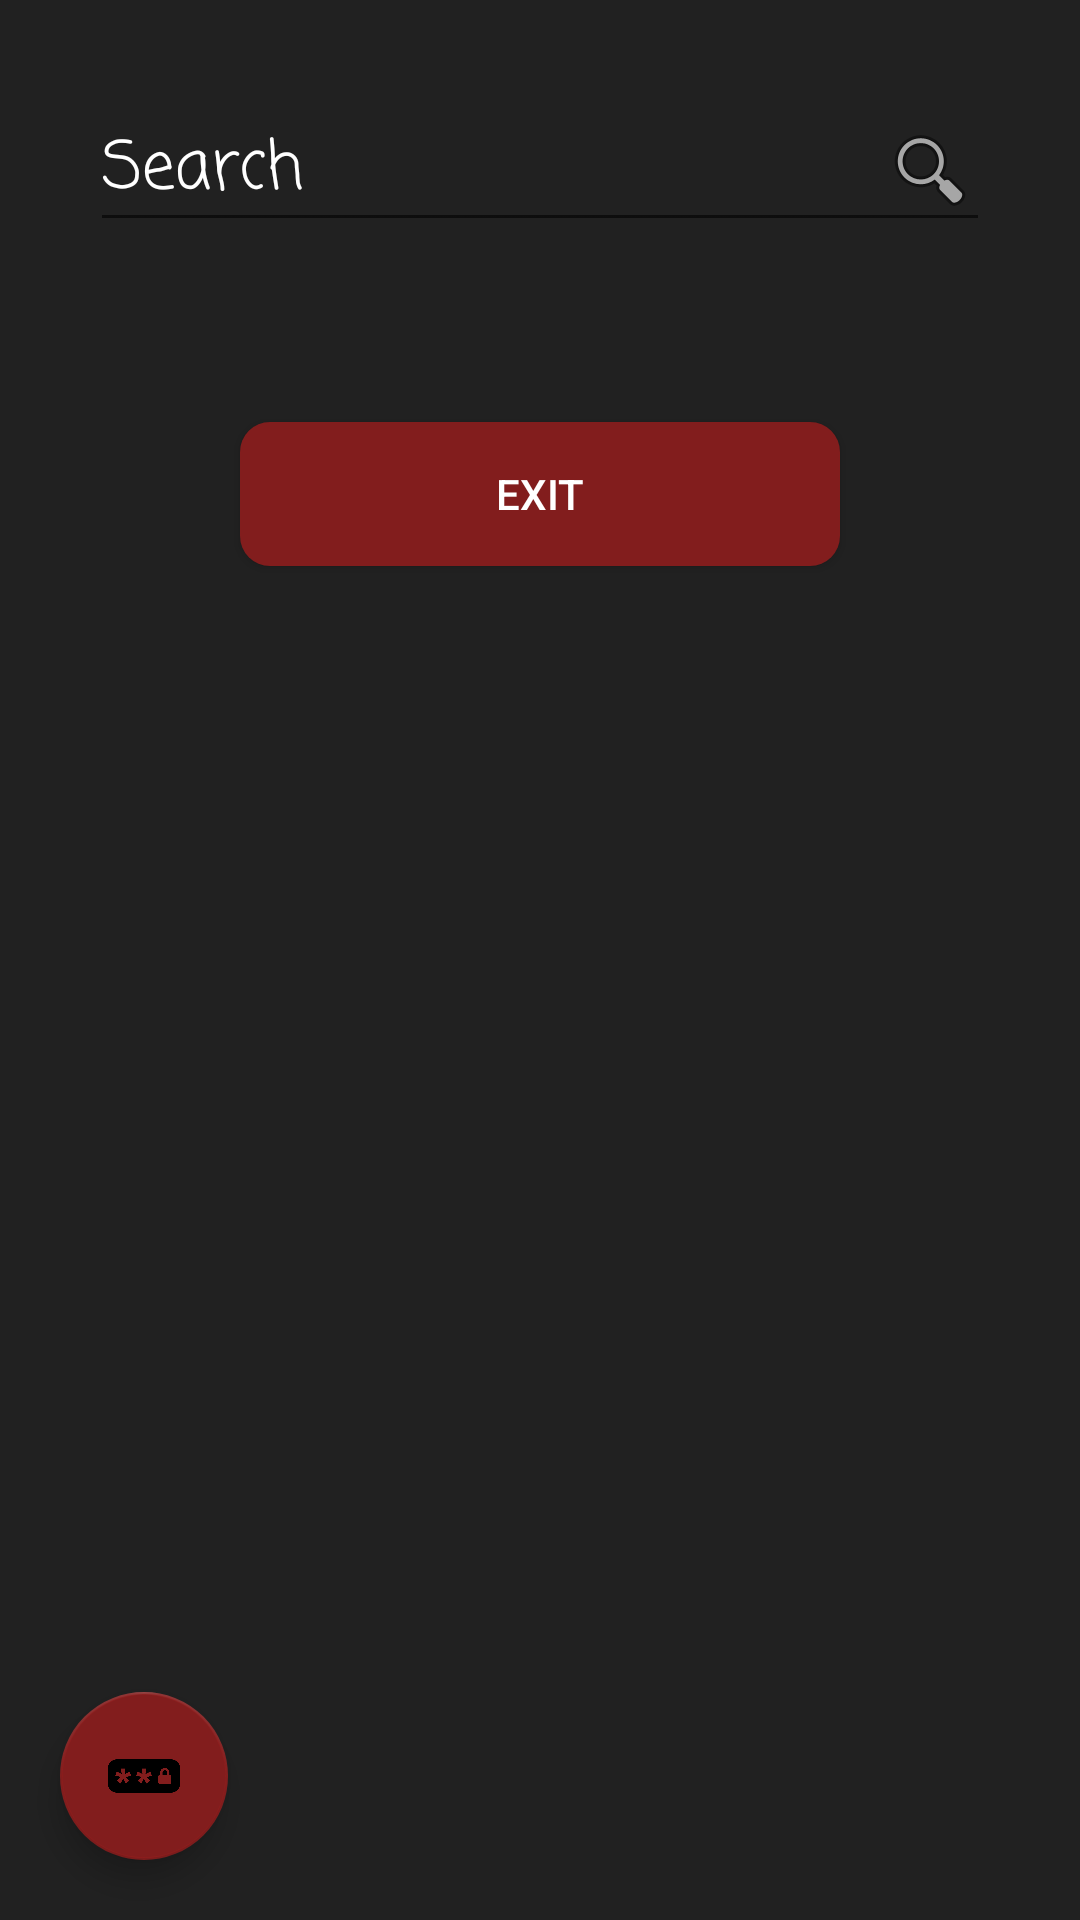

Screen size 1080*1920. Icon name, then its center in pixels as (x,y):
password: (144,1776)
